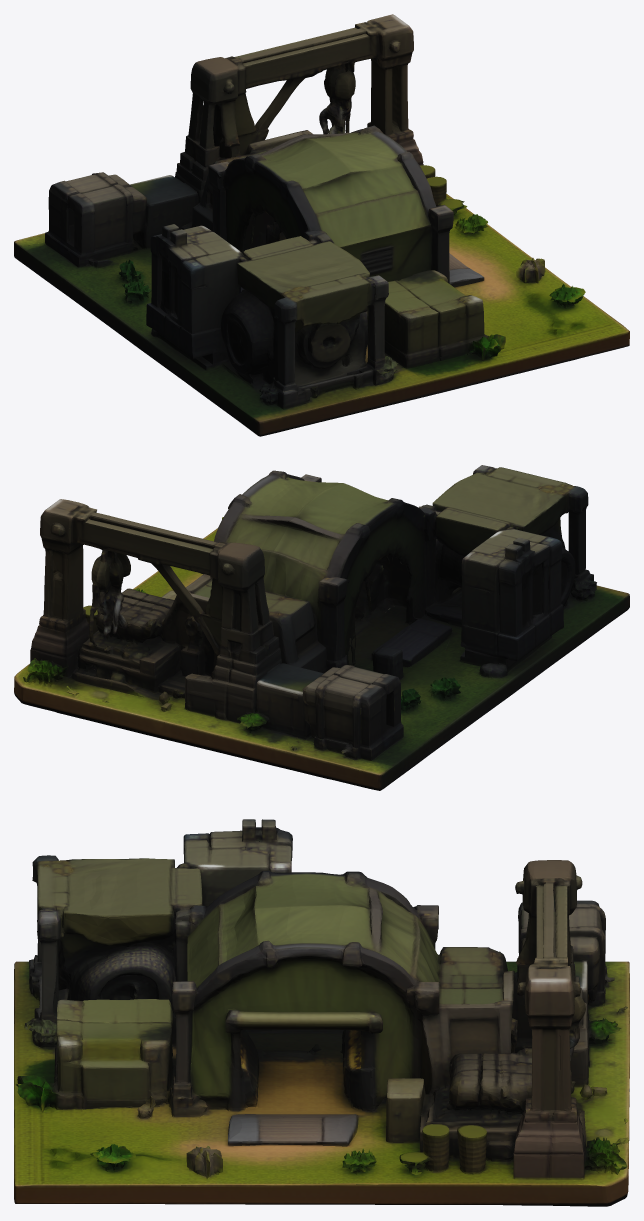
The model's file is parts_workshop.glb.
3 renders of one model, top to bottom at view 1: azimuth 30°, elevation 25°; view 2: azimuth 150°, elevation 25°; view 3: azimuth 270°, elevation 25°, orthographic. The views are drawn at different scales.
Parts seen in each view (by area): view 1: world; view 2: world; view 3: world.
Boxes of the visible parts, <box> form: world: <box>14,14,629,436</box>; world: <box>14,465,629,790</box>; world: <box>14,819,629,1206</box>.
Size of the model in its own units: 0.8661 by 0.3892 by 0.9932.
1 material, 1 textured.
